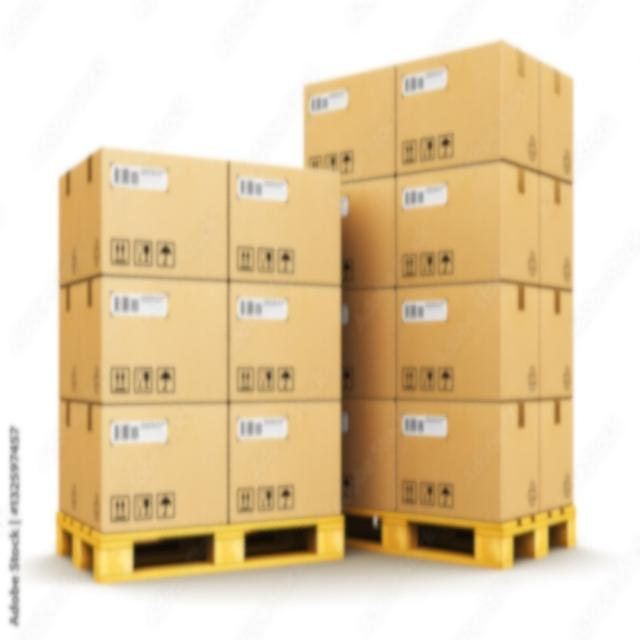pallet: (305, 26, 597, 583), (55, 138, 354, 605)
